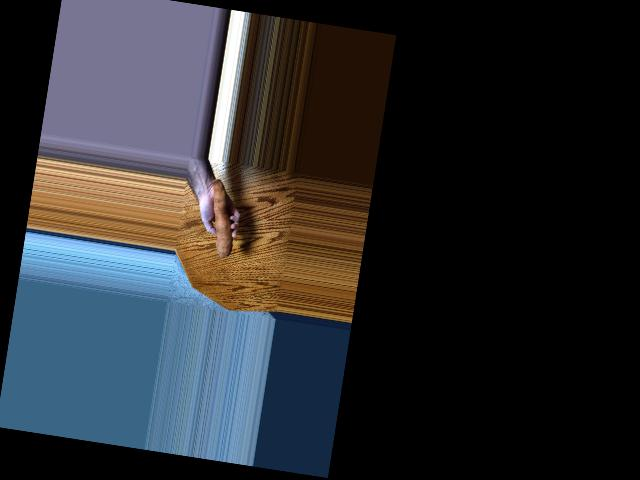sweet_potato: (203, 181, 243, 261)
